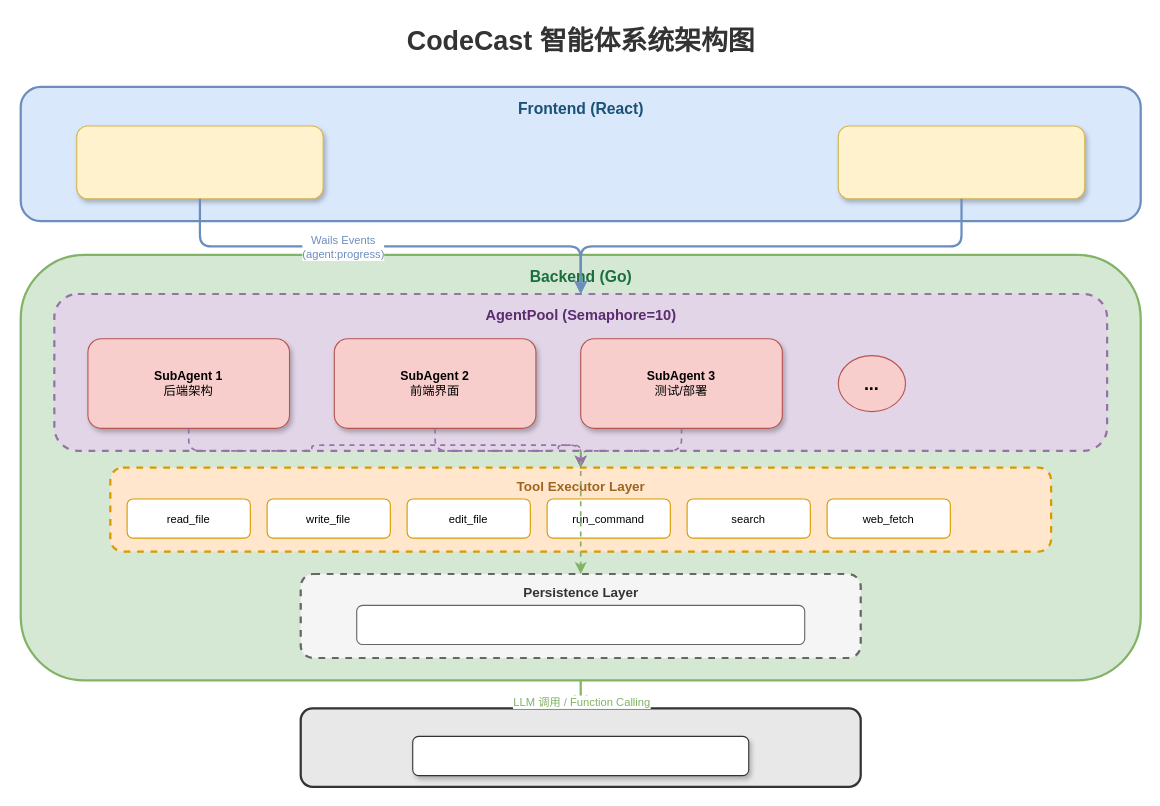
The diagram is 1160 pixels wide and 806 high, and some of its shapes have lost their labels. The shapes that lost their labels are listed below. From the top down, each one's centre as x and y in pixels, then its label:
pixel 200 163: 聊天区内联卡片 显示子 Agent 进度
pixel 962 163: 侧边栏 Agents 面板 管理所有子 Agent
pixel 580 624: ~/.codecast/agents/{session}/{agent}.json
pixel 580 725: DeepSeek API
pixel 581 757: deepseek-v4-flash (Function Calling)
